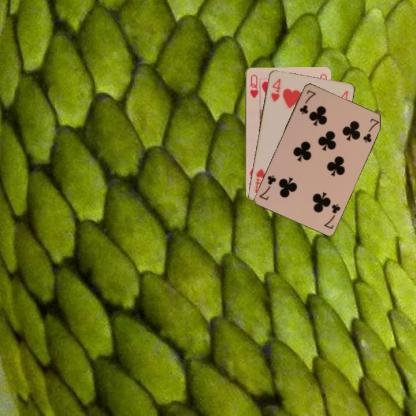4h: (268, 76, 282, 103)
7c: (297, 87, 318, 116), (322, 201, 342, 230)
Qh: (248, 72, 260, 99)
